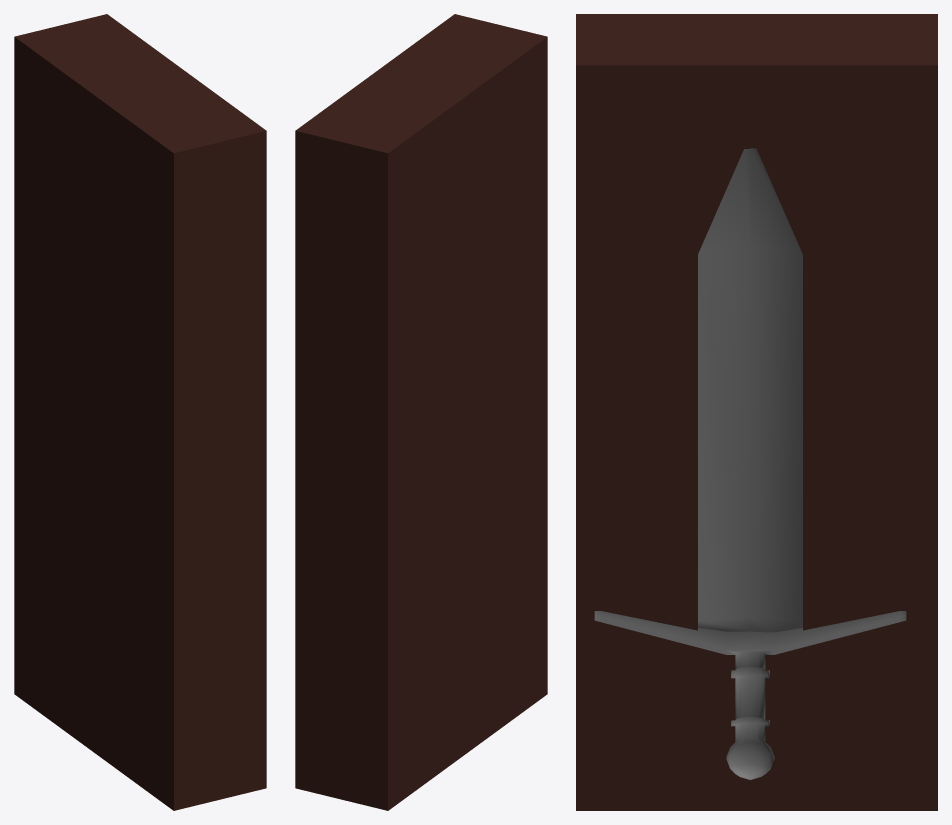
Rendered from swordCast.fbx.
3 views of the same model, side by side, from view 1: azimuth 30°, elevation 25°; view 2: azimuth 150°, elevation 25°; view 3: azimuth 270°, elevation 25° (orthographic). The views are drawn at different scales.
Visible parts, largest first — view 1: cast; view 2: cast; view 3: cast.
Part boxes in pixels (x1,y1,x2,y2): cast: (14,14,266,810); cast: (295,14,547,810); cast: (576,14,937,810).
Size of the model in its own units: 92.33 by 625 by 275.
